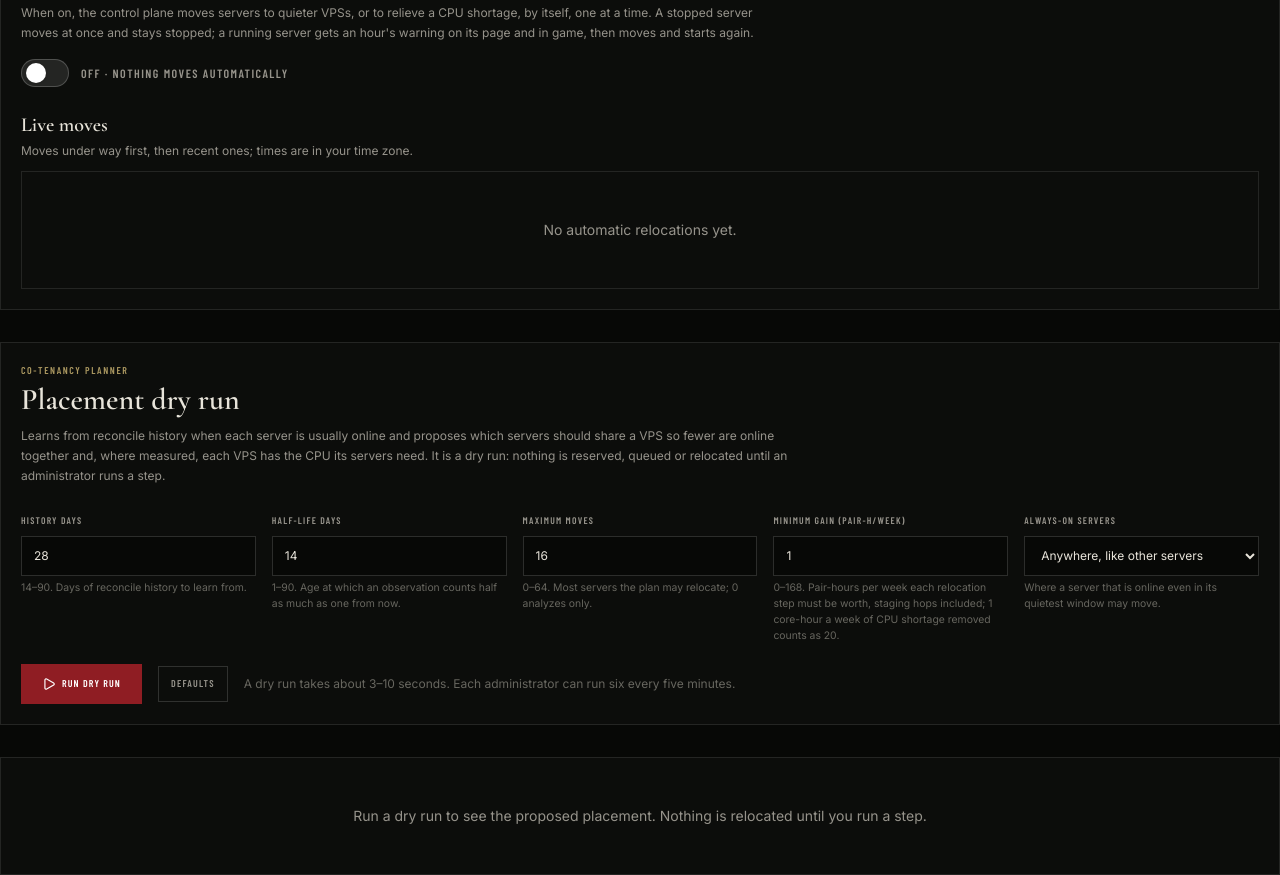
Test case: does not open a step while the server has another active job
(page scrolled)
Step 1. Click the button "Run dry run" → (82, 684), box [21,664,142,704]
(page scrolled)
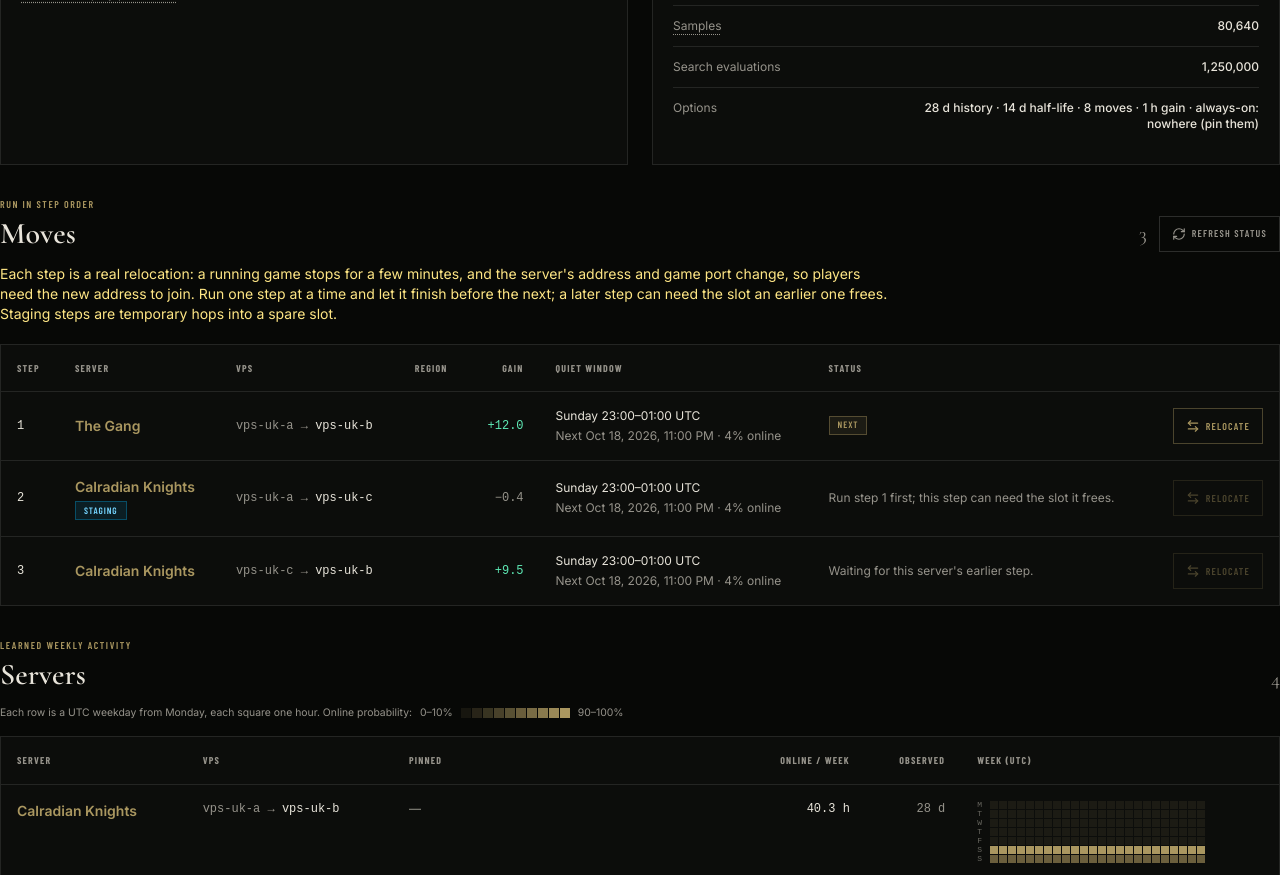
Step 2. Click the button "Relocate" in the row of "+12.0" → (1218, 426), box [1173,408,1263,444]
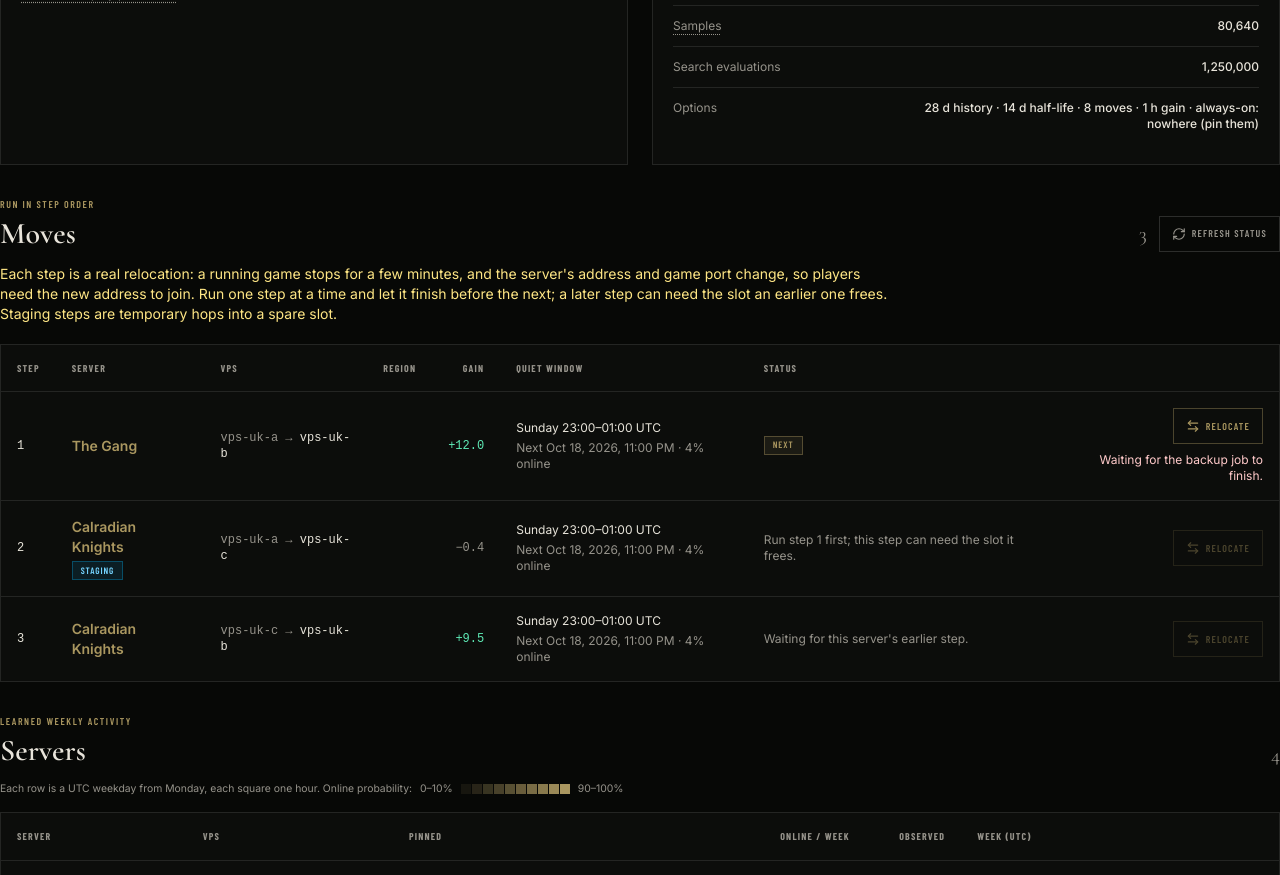
Expected: the message "Waiting for the backup job to finish." is shown, [1100,452,1263,483]
